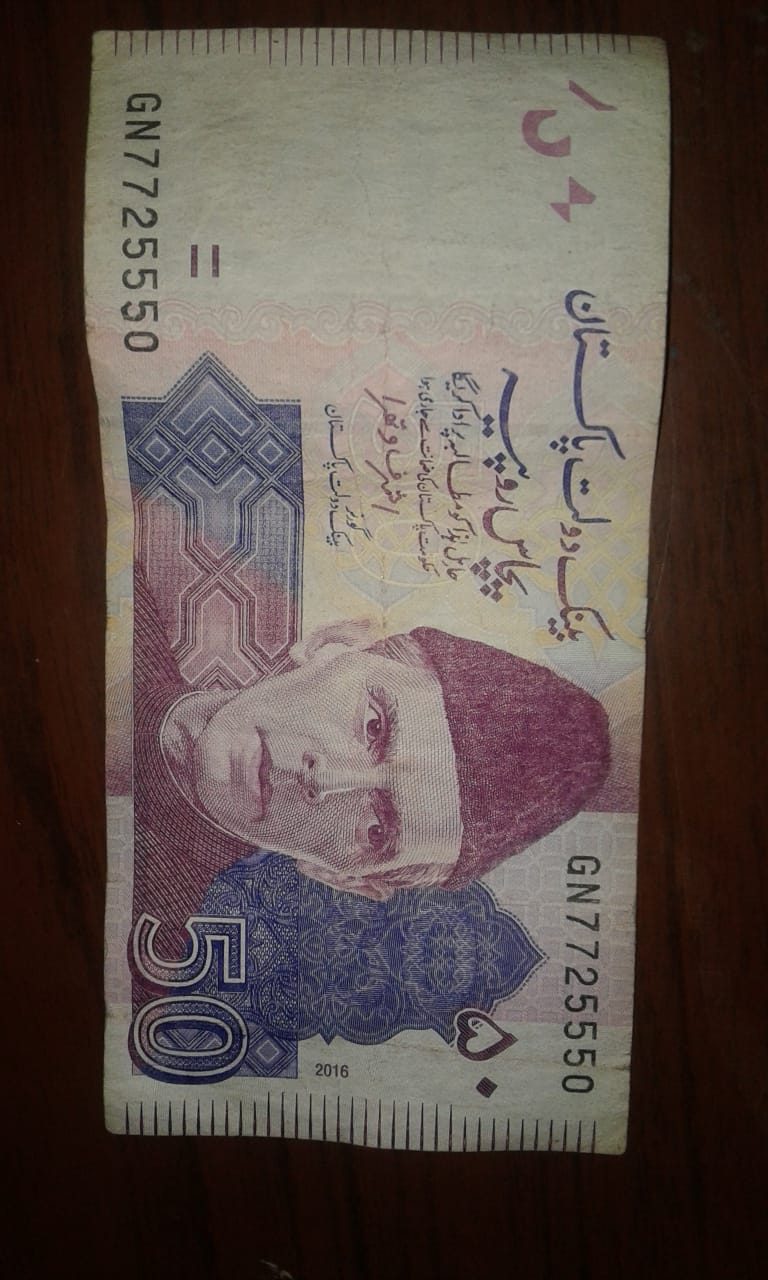50 rupee: (35, 16, 665, 1196)
